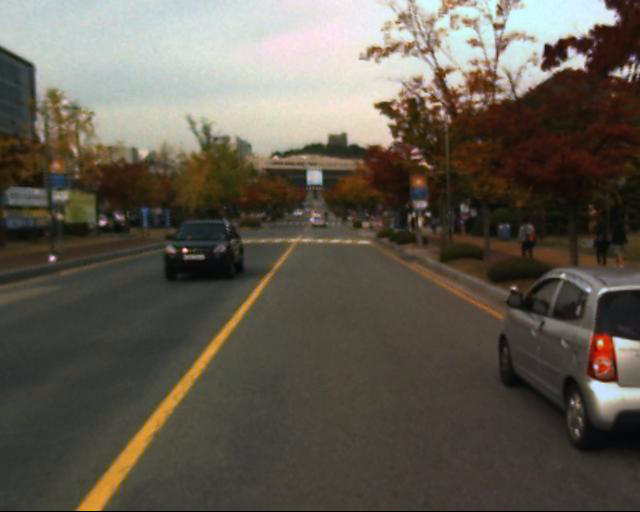person: (518, 211, 542, 277), (592, 210, 613, 270), (611, 209, 633, 263)
